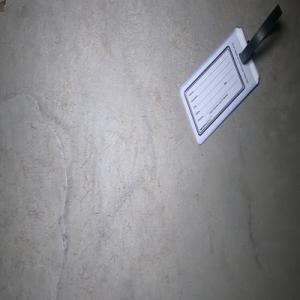LuggageTag: (176, 2, 283, 147)
